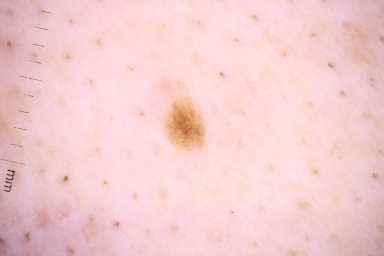melanoma: (167, 95, 204, 144)
